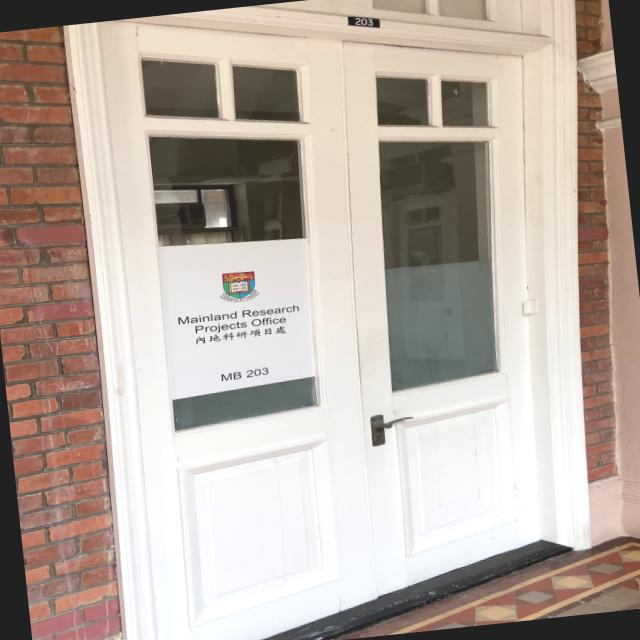room203: (344, 10, 383, 32)
room203Window: (214, 363, 274, 382)
